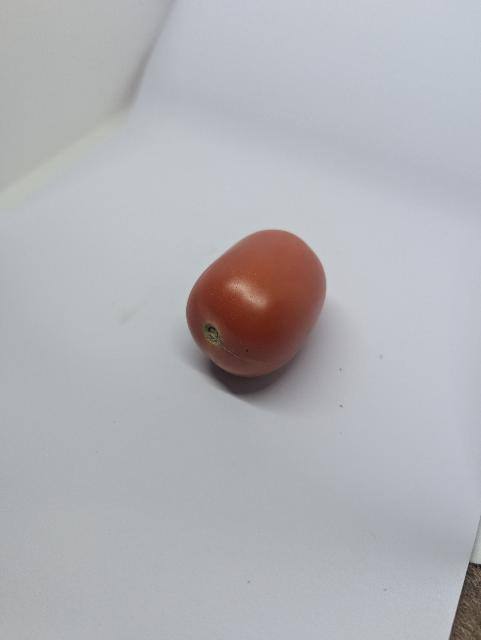red: (175, 213, 352, 397)
